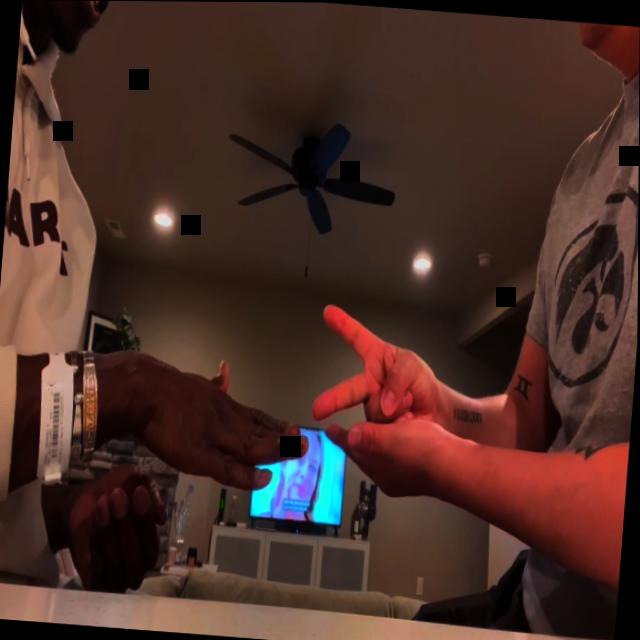Paper: (117, 352, 316, 497)
Scissors: (312, 301, 441, 434)
